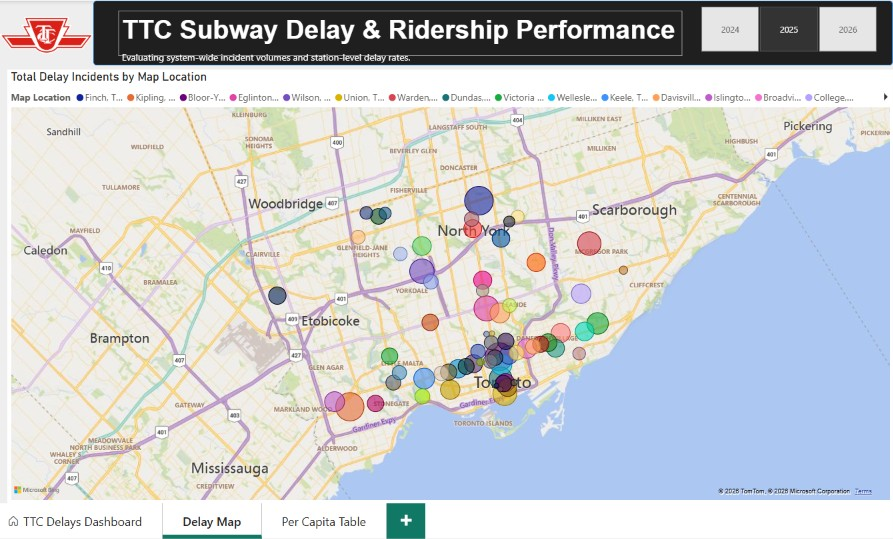

The dashboard page shown, as its layout file describes it:
{"tool":"powerbi","page":{"name":"Delay Map","canvas":[1280,720],"ordinal":1},"visuals":[{"type":"image","box":[0,0,135,99.3],"z":0},{"type":"shape","box":[135,0,1145.1,92.7],"z":1000},{"type":"textbox","box":[170.8,13.9,808.1,65.5],"z":2000},{"type":"textbox","box":[170.8,65.5,734.7,27.8],"z":3000},{"type":"slicer","fields":{"Values":["Dim_Calendar.Year"]},"box":[979.2,1.6,300.9,78.1],"z":4000},{"type":"map","title":"Total Delay Incidents by Map Location ","fields":{"Category":["Dim_Stations.Map Location"],"Series":["Dim_Stations.Map Location"],"Size":["_Measure Table.Total Delay Incidents"]},"box":[11.4,107.4,1268.7,613.2],"z":5000},{"type":"image","box":[596.9,45.5,48.8,61.8],"z":7000},{"type":"actionButton","box":[657.1,58.6,50.4,34.2],"z":8000},{"type":"actionButton","box":[696.2,50.4,74.8,45],"z":8001}]}

Visuals, with their boxes on the page's 1280x720 design canvas (x1, y1, x2, y2). These are canvas units, not pixel positions in the 893x539 screenshot, which may show the page scaled, cropped or inside an application window:
image: locate(0, 0, 135, 99)
shape: locate(135, 0, 1280, 93)
textbox: locate(171, 14, 979, 79)
textbox: locate(171, 66, 906, 93)
slicer - Dim_Calendar.Year: locate(979, 2, 1280, 80)
"Total Delay Incidents by Map Location " map: locate(11, 107, 1280, 721)
image: locate(597, 46, 646, 107)
actionButton: locate(657, 59, 708, 93)
actionButton: locate(696, 50, 771, 95)
